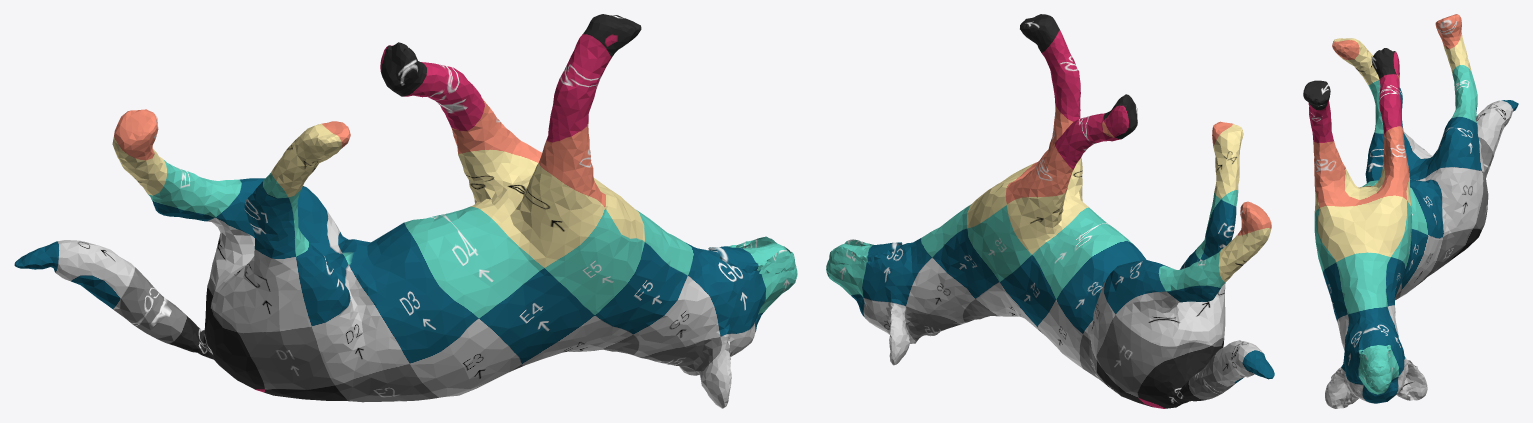
The model's file is horse_08-dog_05.obj.
The picture shows the model from 3 angles, left to right: view 1: azimuth 30°, elevation 25°; view 2: azimuth 150°, elevation 25°; view 3: azimuth 270°, elevation 25°; orthographic projection. The views are drawn at different scales.
Parts seen in each view (by area): view 1: horse_08-dog_05_export; view 2: horse_08-dog_05_export; view 3: horse_08-dog_05_export.
Boxes of the visible parts, bbox=[...] form: horse_08-dog_05_export: bbox=[14, 14, 797, 408]; horse_08-dog_05_export: bbox=[826, 14, 1274, 408]; horse_08-dog_05_export: bbox=[1303, 14, 1518, 408].
Bounding box in the file's own units: 1.13 × 0.6869 × 0.4708.
